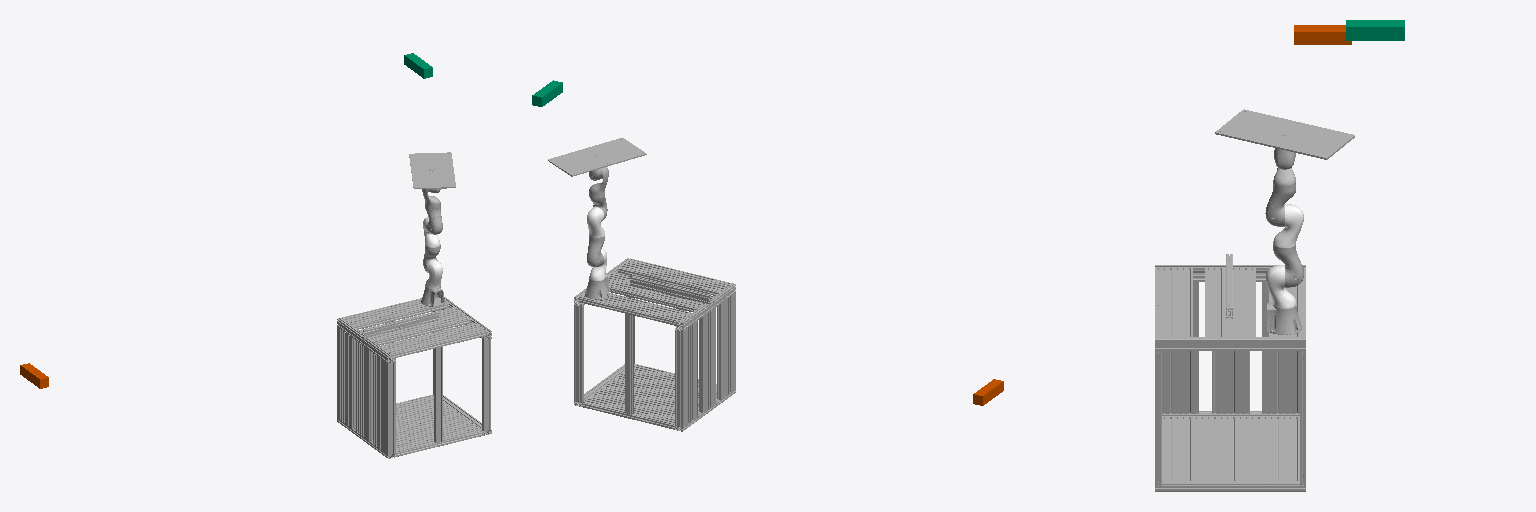
URDF robot description (DORO_table):
<?xml version="1.0" encoding="utf-8"?>
<!-- This URDF was automatically created by SolidWorks to URDF Exporter! Originally created by [author] ([email redacted]) 
     Commit Version: 1.6.0-1-g15f4949  Build Version: 1.6.7594.29634
     For more information, please see http://wiki.ros.org/sw_urdf_exporter -->
<robot
  name="DORO_table">
  <link name="world" />
  <joint name="world_joint" type="fixed">
    <origin xyz="0.3 -0.37 0" rpy="0 0 0" />
    <parent link="world"/>
    <child link="shelf"/>
  </joint>

  <link
    name="shelf">
    <inertial>
      <origin
        xyz="0 0 0.1"
        rpy="0 0 0" />
      <mass
        value="15.9226602269834" />
      <inertia
        ixx="0.348279163425934"
        ixy="9.78249699407874E-06"
        ixz="-4.81788976036679E-08"
        iyy="0.472546975415564"
        iyz="9.53977303601999E-08"
        izz="0.580731685277469" />
    </inertial>
    <visual>
      <origin
        xyz="0 0 0.1"
        rpy="0 0 0" />
      <geometry>
        <mesh
          filename="package://DORO_table/meshes/shelf.STL" />
      </geometry>
      <material
        name="">
        <color
          rgba="0.752941176470588 0.752941176470588 0.752941176470588 1" />
      </material>
    </visual>
    <collision>
      <origin
        xyz="0 0 0.1"
        rpy="0 0 0" />
      <geometry>
        <mesh
          filename="package://DORO_table/meshes/shelf.STL" />
      </geometry>
    </collision>
  </link>

  <joint name="shelf_joint" type="fixed">
    <origin xyz="0.3 0.19 0.89" rpy="0 0 0" />
    <parent link="shelf"/>
    <child link="base_link"/>
  </joint>

   <link
    name="base_link">
    <inertial>
      <origin xyz="0 0 0" rpy="0 0 0" />
      <mass value="3.06" />
      <inertia ixx="0.3" ixy="0.0" ixz="0.0" iyy="0.3" iyz="0.0" izz="0.3" />
    </inertial>
    <visual>
      <origin
        xyz="0 0 0"
        rpy="0 0 0" />
      <geometry>
        <mesh
          filename="package://DOBO1/meshes/base_link.STL" />
      </geometry>
      <material
        name="">
        <color
          rgba="0.752941176470588 0.752941176470588 0.752941176470588 1" />
      </material>
    </visual>
    <collision>
      <origin
        xyz="0 0 0"
        rpy="0 0 0" />
      <geometry>
        <mesh
          filename="package://DOBO1/meshes/base_link.STL" />
      </geometry>
    </collision>
  </link>
  <link
    name="link_1">
    <inertial>
      <origin xyz="0 0 0" rpy="0 0 0" />
      <mass value="3.06" />
      <inertia ixx="0.3" ixy="0.0" ixz="0.0" iyy="0.3" iyz="0.0" izz="0.3" />
    </inertial>
    <visual>
      <origin
        xyz="0 0 0"
        rpy="0 0 0" />
      <geometry>
        <mesh
          filename="package://DOBO1/meshes/link_1.STL" />
      </geometry>
      <material
        name="">
        <color
          rgba="1 1 1 1" />
      </material>
    </visual>
    <collision>
      <origin
        xyz="0 0 0"
        rpy="0 0 0" />
      <geometry>
        <mesh
          filename="package://DOBO1/meshes/link_1.STL" />
      </geometry>
    </collision>
  </link>
  <joint
    name="joint_1"
    type="revolute">
    <origin
      xyz="0 -0.0025539 0.13584"
      rpy="0 0 0" />
    <parent
      link="base_link" />
    <child
      link="link_1" />
    <axis
      xyz="0 0 -1" />
    <limit
      lower="-0.785"
      upper="3.926"
      effort="87"
      velocity="2.1750" />
    <dynamics damping="1.0"/> 
  </joint>
  <link
    name="link_2">
    <inertial>
      <origin xyz="0 0 0" rpy="0 0 0" />
      <mass value="3.06" />
      <inertia ixx="0.3" ixy="0.0" ixz="0.0" iyy="0.3" iyz="0.0" izz="0.3" />
    </inertial>
    <visual>
      <origin
        xyz="0 0 0"
        rpy="0 0 0" />
      <geometry>
        <mesh
          filename="package://DOBO1/meshes/link_2.STL" />
      </geometry>
      <material
        name="">
        <color
          rgba="0.752941176470588 0.752941176470588 0.752941176470588 1" />
      </material>
    </visual>
    <collision>
      <origin
        xyz="0 0 0"
        rpy="0 0 0" />
      <geometry>
        <mesh
          filename="package://DOBO1/meshes/link_2.STL" />
      </geometry>
    </collision>
  </link>
  <joint
    name="joint_2"
    type="revolute">
    <origin
      xyz="0 0 0.15026"
      rpy="-1.5708 0 0" />
    <parent
      link="link_1" />
    <child
      link="link_2" />
    <axis
      xyz="0 0 -1" />
    <limit
      lower="-0.785"
      upper="3.926"
      effort="87"
      velocity="2.1750" />
    <dynamics damping="1.0"/>
  </joint>
  <link
    name="link_3">
    <inertial>
      <origin xyz="0 0 0" rpy="0 0 0" />
      <mass value="3.06" />
      <inertia ixx="0.3" ixy="0.0" ixz="0.0" iyy="0.3" iyz="0.0" izz="0.3" />
    </inertial>
    <visual>
      <origin
        xyz="0 0 0"
        rpy="0 0 0" />
      <geometry>
        <mesh
          filename="package://DOBO1/meshes/link_3.STL" />
      </geometry>
      <material
        name="">
        <color
          rgba="1 1 1 1" />
      </material>
    </visual>
    <collision>
      <origin
        xyz="0 0 0"
        rpy="0 0 0" />
      <geometry>
        <mesh
          filename="package://DOBO1/meshes/link_3.STL" />
      </geometry>
    </collision>
  </link>
  <joint
    name="joint_3"
    type="revolute">
    <origin
      xyz="0 -0.169 -0.0003799"
      rpy="1.5708 0 0" />
    <parent
      link="link_2" />
    <child
      link="link_3" />
    <axis
      xyz="0 0 -1" />
    <limit
      lower="-0.785"
      upper="3.926"
      effort="87"
      velocity="2.1750" />
    <dynamics damping="1.0"/>
  </joint>
  <link
    name="link_4">
    <inertial>
      <origin xyz="0 0 0" rpy="0 0 0" />
      <mass value="3.06" />
      <inertia ixx="0.3" ixy="0.0" ixz="0.0" iyy="0.3" iyz="0.0" izz="0.3" />
    </inertial>
    <visual>
      <origin
        xyz="0 0 0"
        rpy="0 0 0" />
      <geometry>
        <mesh
          filename="package://DOBO1/meshes/link_4.STL" />
      </geometry>
      <material
        name="">
        <color
          rgba="0.752941176470588 0.752941176470588 0.752941176470588 1" />
      </material>
    </visual>
    <collision>
      <origin
        xyz="0 0 0"
        rpy="0 0 0" />
      <geometry>
        <mesh
          filename="package://DOBO1/meshes/link_4.STL" />
      </geometry>
    </collision>
  </link>
  <joint
    name="joint_4"
    type="revolute">
    <origin
      xyz="-2.1962E-05 0 0.1506"
      rpy="1.5708 0 0" />
    <parent
      link="link_3" />
    <child
      link="link_4" />
    <axis
      xyz="0 0 -1" />
    <limit
      lower="-0.785"
      upper="3.926"
      effort="87"
      velocity="2.1750" />
    <dynamics damping="1.0"/>
  </joint>
  <link
    name="link_5">
    <inertial>
      <origin xyz="0 0 0" rpy="0 0 0" />
      <mass value="3.06" />
      <inertia ixx="0.3" ixy="0.0" ixz="0.0" iyy="0.3" iyz="0.0" izz="0.3" />
    </inertial>
    <visual>
      <origin
        xyz="0 0 0"
        rpy="0 0 0" />
      <geometry>
        <mesh
          filename="package://DOBO1/meshes/link_5.STL" />
      </geometry>
      <material
        name="">
        <color
          rgba="0.752941176470588 0.752941176470588 0.752941176470588 1" />
      </material>
    </visual>
    <collision>
      <origin
        xyz="0 0 0"
        rpy="0 0 0" />
      <geometry>
        <mesh
          filename="package://DOBO1/meshes/link_5.STL" />
      </geometry>
    </collision>
  </link>
  <joint
    name="joint_5"
    type="revolute">
    <origin
      xyz="2.1962E-05 0.1736 -0.00037968"
      rpy="-1.5708 0 0" />
    <parent
      link="link_4" />
    <child
      link="link_5" />
    <axis
      xyz="0 0 -1" />
    <limit
      lower="-0.785"
      upper="3.926"
      effort="87"
      velocity="2.1750" />
    <dynamics damping="1.0"/>
  </joint>
  <link
    name="link_6">
    <inertial>
      <origin xyz="0 0 0" rpy="0 0 0" />
      <mass value="3.06" />
      <inertia ixx="0.3" ixy="0.0" ixz="0.0" iyy="0.3" iyz="0.0" izz="0.3" />
    </inertial>
    <visual>
      <origin
        xyz="0 0 0"
        rpy="0 0 0" />
      <geometry>
        <mesh
          filename="package://DOBO1/meshes/link_6.STL" />
      </geometry>
      <material
        name="">
        <color
          rgba="0.752941176470588 0.752941176470588 0.752941176470588 1" />
      </material>
    </visual>
    <collision>
      <origin
        xyz="0 0 0"
        rpy="0 0 0" />
      <geometry>
        <mesh
          filename="package://DOBO1/meshes/link_6.STL" />
      </geometry>
    </collision>
  </link>
  <joint
    name="joint_6"
    type="revolute">
    <origin
      xyz="0 0 0.14599"
      rpy="1.5708 0 1.5708" />
    <parent
      link="link_5" />
    <child
      link="link_6" />
    <axis
      xyz="0 0 -1" />
    <limit
      lower="-0.785"
      upper="3.926"
      effort="87"
      velocity="2.1750" />
    <dynamics damping="1.0"/>
  </joint>
  <link
    name="link_7">
    <inertial>
      <origin xyz="0 0 0" rpy="0 0 0" />
      <mass value="3.06" />
      <inertia ixx="0.3" ixy="0.0" ixz="0.0" iyy="0.3" iyz="0.0" izz="0.3" />
    </inertial>
    <visual>
      <origin
        xyz="0 0 0"
        rpy="0 0 0" />
      <geometry>
        <mesh
          filename="package://DOBO1/meshes/link_7.STL" />
      </geometry>
      <material
        name="">
        <color
          rgba="0.752941176470588 0.752941176470588 0.752941176470588 1" />
      </material>
    </visual>
    <collision>
      <origin
        xyz="0 0 0"
        rpy="0 0 0" />
      <geometry>
        <mesh
          filename="package://DOBO1/meshes/link_7.STL" />
      </geometry>
    </collision>
  </link>
  <joint
    name="joint_7"
    type="revolute">
    <origin
      xyz="0.0013242 0.070964 -0.0012638"
      rpy="1.5708 0.46949 3.1229" />
    <parent
      link="link_6" />
    <child
      link="link_7" />
    <axis
      xyz="0 0 -1" />
    <limit
      lower="-0.785"
      upper="3.926"
      effort="87"
      velocity="2.1750" />
  </joint>

  <joint name="link_7_to_gripper" type="fixed">
    <parent link="link_7"/>
    <child link="gripper"/>
  </joint>

  <link
    name="gripper">
    <inertial>
      <origin
        xyz="0 0 0.03"
        rpy="0 0 0" />
      <mass
        value="1.6154" />
      <inertia
        ixx="0.011286"
        ixy="0"
        ixz="0"
        iyy="0.044568"
        iyz="0"
        izz="0.055851" />
    </inertial>
    <visual>
      <origin
        xyz="0 0 0.03"
        rpy="0 0 0" />
      <geometry>
        <mesh
          filename="package://test_gipper/meshes/gripper.STL" />
      </geometry>
      <material
        name="">
        <color
          rgba="0.75294 0.75294 0.75294 1" />
      </material>
    </visual>
    <collision>
      <origin
        xyz="0 0 0.03"
        rpy="0 0 0" />
      <geometry>
        <mesh
          filename="package://test_gipper/meshes/gripper.STL" />
      </geometry>
    </collision>
  </link>


 



  
<!-- gazebo 상에서 로봇을 움직일 때 필요한 플러그인 -->
  <transmission name="DOBO_tran_1">
    <type>transmission_interface/SimpleTransmission</type>
    <joint name="joint_1">
      <hardwareInterface>hardware_interface/EffortJointInterface</hardwareInterface>
    </joint>
    <actuator name="DOBO_motor_1">
      <hardwareInterface>hardware_interface/EffortJointInterface</hardwareInterface>
      <mechanicalReduction>1</mechanicalReduction>
    </actuator>
   </transmission>
     <transmission name="DOBO_tran_2">
    <type>transmission_interface/SimpleTransmission</type>
    <joint name="joint_2">
      <hardwareInterface>hardware_interface/EffortJointInterface</hardwareInterface>
    </joint>
    <actuator name="DOBO_motor_2">
      <hardwareInterface>hardware_interface/EffortJointInterface</hardwareInterface>
      <mechanicalReduction>1</mechanicalReduction>
    </actuator>
   </transmission>
     <transmission name="DOBO_tran_3">
    <type>transmission_interface/SimpleTransmission</type>
    <joint name="joint_3">
      <hardwareInterface>hardware_interface/EffortJointInterface</hardwareInterface>
    </joint>
    <actuator name="DOBO_motor_3">
      <hardwareInterface>hardware_interface/EffortJointInterface</hardwareInterface>
      <mechanicalReduction>1</mechanicalReduction>
    </actuator>
   </transmission>
     <transmission name="DOBO_tran_4">
    <type>transmission_interface/SimpleTransmission</type>
    <joint name="joint_4">
      <hardwareInterface>hardware_interface/EffortJointInterface</hardwareInterface>
    </joint>
    <actuator name="DOBO_motor_4">
      <hardwareInterface>hardware_interface/EffortJointInterface</hardwareInterface>
      <mechanicalReduction>1</mechanicalReduction>
    </actuator>
   </transmission>
     <transmission name="DOBO_tran_5">
    <type>transmission_interface/SimpleTransmission</type>
    <joint name="joint_5">
      <hardwareInterface>hardware_interface/EffortJointInterface</hardwareInterface>
    </joint>
    <actuator name="DOBO_motor_5">
      <hardwareInterface>hardware_interface/EffortJointInterface</hardwareInterface>
      <mechanicalReduction>1</mechanicalReduction>
    </actuator>
   </transmission>
     <transmission name="DOBO_tran_6">
    <type>transmission_interface/SimpleTransmission</type>
    <joint name="joint_6">
      <hardwareInterface>hardware_interface/EffortJointInterface</hardwareInterface>
    </joint>
    <actuator name="DOBO_motor_6">
      <hardwareInterface>hardware_interface/EffortJointInterface</hardwareInterface>
      <mechanicalReduction>1</mechanicalReduction>
    </actuator>
   </transmission>
     <transmission name="DOBO_tran_7">
    <type>transmission_interface/SimpleTransmission</type>
    <joint name="joint_7">
      <hardwareInterface>hardware_interface/EffortJointInterface</hardwareInterface>
    </joint>
    <actuator name="DOBO_motor_7">
      <hardwareInterface>hardware_interface/EffortJointInterface</hardwareInterface>
      <mechanicalReduction>1</mechanicalReduction>
    </actuator>
   </transmission>

   <gazebo>
    <plugin name="gazebo_ros_control" filename="libgazebo_ros_control.so"/>
  </gazebo>
<!-- gazebo 상에서 로봇을 움직일 때 필요한 플러그인 -->

<!-- camera1 -->
<gazebo reference="camera_depth_frame">
    <sensor name="camera" type="depth">
        <update_rate>20</update_rate>
        <camera>
          <horizontal_fov>1.047198</horizontal_fov>
          <image>
            <width>640</width>
            <height>480</height>
            <format>R8G8B8</format>
          </image>
          <clip>
            <near>0.05</near>
            <far>3</far>
          </clip>
        </camera>
      <plugin name="camera_plugin1" filename="libgazebo_ros_openni_kinect.so">
          <baseline>0.2</baseline>
          <alwaysOn>true</alwaysOn>
          
          <updateRate>0.0</updateRate>
          <cameraName>camera_ir1</cameraName>
          <imageTopicName>/camera1/color/image_raw</imageTopicName>
          <cameraInfoTopicName>/camera1/color/camera_info</cameraInfoTopicName>
          <depthImageTopicName>/camera1/depth/image_raw</depthImageTopicName>
          <depthImageCameraInfoTopicName>/camera1/depth/camera_info</depthImageCameraInfoTopicName>
          <pointCloudTopicName>/camera1/depth/points</pointCloudTopicName>
          <frameName>camera_depth_optical_frame</frameName>
          <pointCloudCutoff>0.5</pointCloudCutoff>
          <pointCloudCutoffMax>3.0</pointCloudCutoffMax>
          <distortionK1>0</distortionK1>
          <distortionK2>0</distortionK2>
          <distortionK3>0</distortionK3>
          <distortionT1>0</distortionT1>
          <distortionT2>0</distortionT2>
          <CxPrime>0</CxPrime>
          <Cx>0</Cx>
          <Cy>0</Cy>
          <focalLength>0</focalLength>
          <hackBaseline>0</hackBaseline>
        </plugin>
    </sensor>
  </gazebo>
  <joint name="camera_rgb_joint" type="fixed">
    <origin rpy="0 0 0" xyz="-2.5 0 1"/>
    <parent link="world"/>
    <child link="camera_rgb_frame"/>
  </joint>
  <link name="camera_rgb_frame">
    <inertial>
      <mass value="0.001"/>
      <origin xyz="0 0 0"/>
      <inertia ixx="0.0001" ixy="0.0" ixz="0.0" iyy="0.0001" iyz="0.0" izz="0.0001"/>
    </inertial>
  </link>
  <joint name="camera_rgb_optical_joint" type="fixed">
    <origin rpy="-1.57079632679 0 -1.57079632679" xyz="0 0 0"/>
    <parent link="camera_rgb_frame"/>
    <child link="camera_rgb_optical_frame"/>
  </joint>
  <link name="camera_rgb_optical_frame">
    <inertial>
      <mass value="0.001"/>
      <origin xyz="0 0 0"/>
      <inertia ixx="0.0001" ixy="0.0" ixz="0.0" iyy="0.0001" iyz="0.0" izz="0.0001"/>
    </inertial>
  </link>
  <joint name="camera_joint" type="fixed">
    <origin rpy="0 0 0" xyz="-0.031 -0.0 -0.016"/>
    <parent link="camera_rgb_frame"/>
    <child link="camera_link"/>
  </joint>
  <link name="camera_link">
    <visual>
      <origin rpy="0 0 1.57079632679" xyz="0 0 0"/>
      <geometry> 
        <box size="0.27794 0.07271 0.073"/>

      </geometry>
    </visual>
    <collision>
      <origin rpy="0 0 0" xyz="0.0 0.0 0.0"/>
      <geometry>
        <box size="0.07271 0.27794 0.073"/>
      </geometry>
    </collision>
    <inertial>
      <mass value="0.001"/>
      <origin xyz="0 0 0"/>
      <inertia ixx="0.0001" ixy="0.0" ixz="0.0" iyy="0.0001" iyz="0.0" izz="0.0001"/>
    </inertial>
  </link>
 
  <joint name="camera_depth_joint" type="fixed">
    <origin rpy="0 0 0" xyz="0 0.0 0"/>
    <parent link="camera_rgb_frame"/>
    <child link="camera_depth_frame"/>
  </joint>
  <link name="camera_depth_frame">
    <inertial>
      <mass value="0.001"/>
      <origin xyz="0 0 0"/>
      <inertia ixx="0.0001" ixy="0.0" ixz="0.0" iyy="0.0001" iyz="0.0" izz="0.0001"/>
    </inertial>
  </link>
  <joint name="camera_depth_optical_joint" type="fixed">
    <origin rpy="-1.57079632679 0 -1.57079632679" xyz="0 0 0"/>
    <parent link="camera_depth_frame"/>
    <child link="camera_depth_optical_frame"/>
  </joint>
  <link name="camera_depth_optical_frame">
    <inertial>
      <mass value="0.001"/>
      <origin xyz="0 0 0"/>
      <inertia ixx="0.0001" ixy="0.0" ixz="0.0" iyy="0.0001" iyz="0.0" izz="0.0001"/>
    </inertial>
  </link>


<!--camera2  -->

<gazebo reference="camera_depth_frame2">
    <sensor name="camera2" type="depth">
        <update_rate>20</update_rate>
        <camera>
          <horizontal_fov>1.047198</horizontal_fov>
          <image>
            <width>640</width>
            <height>480</height>
            <format>R8G8B8</format>
          </image>
          <clip>
            <near>0.05</near>
            <far>3</far>
          </clip>
        </camera>
      <plugin name="camera_plugin2" filename="libgazebo_ros_openni_kinect.so">
          <baseline>0.2</baseline>
          <alwaysOn>true</alwaysOn>
          <!-- Keep this zero, update_rate in the parent <sensor> tag
            will control the frame rate. -->
          <updateRate>0.0</updateRate>
          <cameraName>camera_ir2</cameraName>
          <imageTopicName>/camera2/color/image_raw</imageTopicName>
          <cameraInfoTopicName>/camera2/color/camera_info</cameraInfoTopicName>
          <depthImageTopicName>/camera2/depth/image_raw</depthImageTopicName>
          <depthImageCameraInfoTopicName>/camera2/depth/camera_info</depthImageCameraInfoTopicName>
          <pointCloudTopicName>/camera2/depth/points</pointCloudTopicName>
          <frameName>camera_depth_optical_frame2</frameName>
          <pointCloudCutoff>0.5</pointCloudCutoff>
          <pointCloudCutoffMax>3.0</pointCloudCutoffMax>
          <distortionK1>0</distortionK1>
          <distortionK2>0</distortionK2>
          <distortionK3>0</distortionK3>
          <distortionT1>0</distortionT1>
          <distortionT2>0</distortionT2>
          <CxPrime>0</CxPrime>
          <Cx>0</Cx>
          <Cy>0</Cy>
          <focalLength>0</focalLength>
          <hackBaseline>0</hackBaseline>
        </plugin>
      </sensor>
  </gazebo>
  <joint name="camera_rgb_joint2" type="fixed">
    <origin rpy="3.14 1.57 3.14" xyz="0.75 0.25 2.5"/>
    <parent link="world"/>
    <child link="camera_rgb_frame2"/>
  </joint>
  <link name="camera_rgb_frame2">
    <inertial>
      <mass value="0.001"/>
      <origin xyz="0 0 0"/>
      <inertia ixx="0.0001" ixy="0.0" ixz="0.0" iyy="0.0001" iyz="0.0" izz="0.0001"/>
    </inertial>
  </link>
  <joint name="camera_rgb_optical_joint2" type="fixed">
    <origin rpy="-1.57079632679 0 -1.57079632679" xyz="0 0 0"/>
    <parent link="camera_rgb_frame2"/>
    <child link="camera_rgb_optical_frame2"/>
  </joint>
  <link name="camera_rgb_optical_frame2">
    <inertial>
      <mass value="0.001"/>
      <origin xyz="0 0 0"/>
      <inertia ixx="0.0001" ixy="0.0" ixz="0.0" iyy="0.0001" iyz="0.0" izz="0.0001"/>
    </inertial>
  </link>
  <joint name="camera_joint2" type="fixed">
    <origin rpy="0 0 0" xyz="-0.031 -0.0 -0.016"/>
    <parent link="camera_rgb_frame2"/>
    <child link="camera_link2"/>
  </joint>
  <link name="camera_link2">
    <visual>
      <origin rpy="0 0 1.57079632679" xyz="0 0 0"/>
      <geometry> 
        <box size="0.27794 0.07271 0.073"/>

      </geometry>
    </visual>
    <collision>
      <origin rpy="0 0 0" xyz="0.0 0.0 0.0"/>
      <geometry>
        <box size="0.07271 0.27794 0.073"/>
      </geometry>
    </collision>
    <inertial>
      <mass value="0.001"/>
      <origin xyz="0 0 0"/>
      <inertia ixx="0.0001" ixy="0.0" ixz="0.0" iyy="0.0001" iyz="0.0" izz="0.0001"/>
    </inertial>
  </link>
  
  <joint name="camera_depth_joint2" type="fixed">
    <origin rpy="0 0 0" xyz="0 0.0 0"/>
    <parent link="camera_rgb_frame2"/>
    <child link="camera_depth_frame2"/>
  </joint>
  <link name="camera_depth_frame2">
    <inertial>
      <mass value="0.001"/>
      <origin xyz="0 0 0"/>
      <inertia ixx="0.0001" ixy="0.0" ixz="0.0" iyy="0.0001" iyz="0.0" izz="0.0001"/>
    </inertial>
  </link>
  <joint name="camera_depth_optical_joint2" type="fixed">
    <origin rpy="-1.57079632679 0 -1.57079632679" xyz="0 0 0"/>
    <parent link="camera_depth_frame2"/>
    <child link="camera_depth_optical_frame2"/>
  </joint>
  <link name="camera_depth_optical_frame2">
    <inertial>
      <mass value="0.001"/>
      <origin xyz="0 0 0"/>
      <inertia ixx="0.0001" ixy="0.0" ixz="0.0" iyy="0.0001" iyz="0.0" izz="0.0001"/>
    </inertial>
  </link>




</robot>

--- Facts derived from the render (not from the file) ---
The picture shows the robot from 3 angles, left to right: view 1: azimuth 30°, elevation 25°; view 2: azimuth 150°, elevation 25°; view 3: azimuth 270°, elevation 25°; orthographic projection.
Robot: DORO_table — 21 links, 20 joints (7 revolute, 13 fixed); root link world; default pose: every joint at zero.
Visible links, largest first — view 1: shelf, gripper; view 2: shelf, gripper; view 3: shelf, gripper, camera_link2, camera_link, base_link, link_1, link_3, link_4, link_2.
Link boxes in pixels (x1=…): shelf: x1=337, y1=297, x2=491, y2=458; gripper: x1=409, y1=152, x2=455, y2=188; shelf: x1=574, y1=258, x2=735, y2=431; gripper: x1=548, y1=138, x2=646, y2=176; shelf: x1=1155, y1=254, x2=1305, y2=491; gripper: x1=1215, y1=109, x2=1354, y2=159; camera_link2: x1=1346, y1=20, x2=1404, y2=40; camera_link: x1=1294, y1=25, x2=1351, y2=44; base_link: x1=1267, y1=303, x2=1301, y2=334; link_1: x1=1266, y1=265, x2=1295, y2=308; link_3: x1=1273, y1=204, x2=1303, y2=247; link_4: x1=1265, y1=183, x2=1295, y2=226; link_2: x1=1273, y1=244, x2=1303, y2=287.
Size in the robot's own frame: 3.43 by 1.19 by 2.47 metres.
10 mesh visuals loaded from 10 distinct referenced files (10 binary STL).
